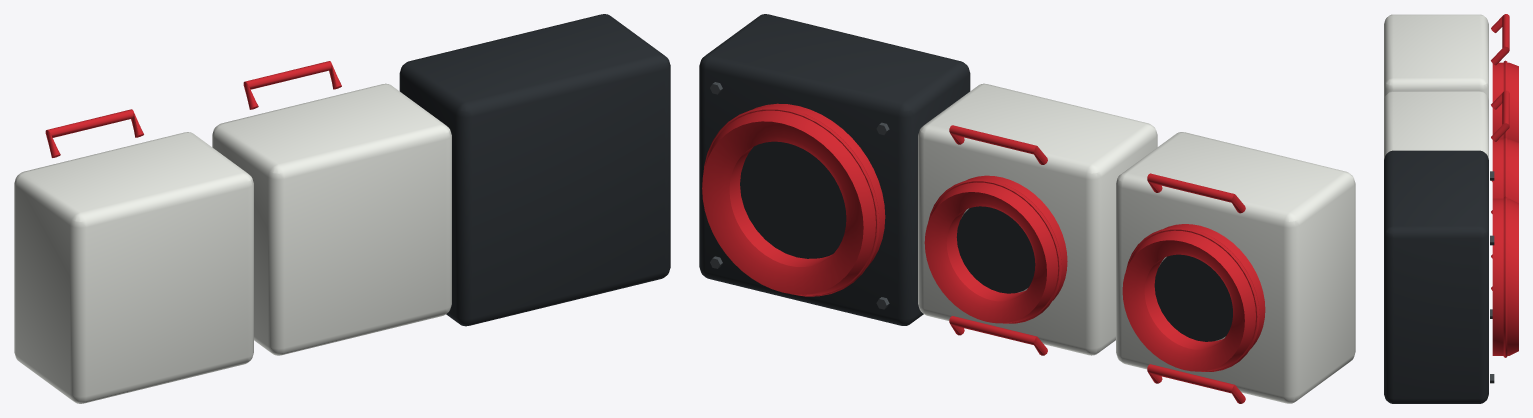
Rendered from traffic_cones.glb.
The picture shows the model from 3 angles, left to right: view 1: azimuth 30°, elevation 25°; view 2: azimuth 150°, elevation 25°; view 3: azimuth 270°, elevation 25°; orthographic projection. The views are drawn at different scales.
Parts seen in each view (by area): view 1: traffic_cones; view 2: traffic_cones; view 3: traffic_cones.
Part boxes in pixels (x1,y1,x2,y2): traffic_cones: (14, 14, 670, 403); traffic_cones: (699, 14, 1355, 403); traffic_cones: (1384, 14, 1518, 403).
Size of the model in its own units: 1.17 by 0.4236 by 0.287.
